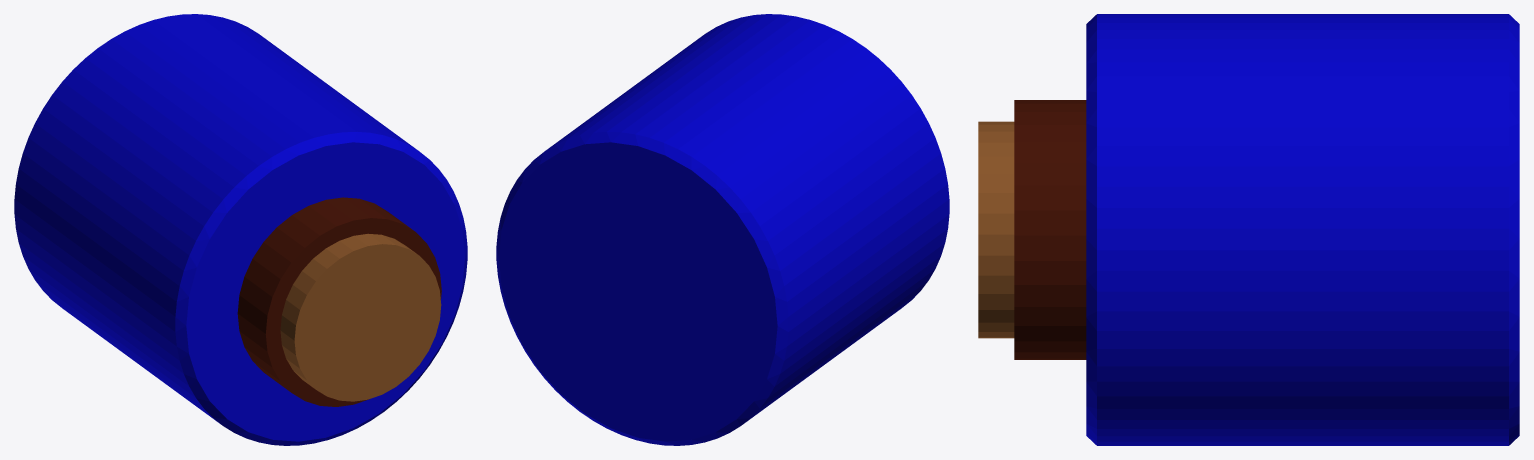
The model's file is DefensivePotion.obj.
The picture shows the model from 3 angles, left to right: view 1: azimuth 30°, elevation 25°; view 2: azimuth 150°, elevation 25°; view 3: azimuth 270°, elevation 25°; orthographic projection. The views are drawn at different scales.
Parts seen in each view (by area): view 1: DefensivePotion; view 2: DefensivePotion; view 3: DefensivePotion.
Boxes of the visible parts, <box> form: DefensivePotion: <box>14,14,467,445</box>; DefensivePotion: <box>496,14,949,445</box>; DefensivePotion: <box>978,14,1519,445</box>.
Bounding box in the file's own units: 1.99 × 1.99 × 2.5.
